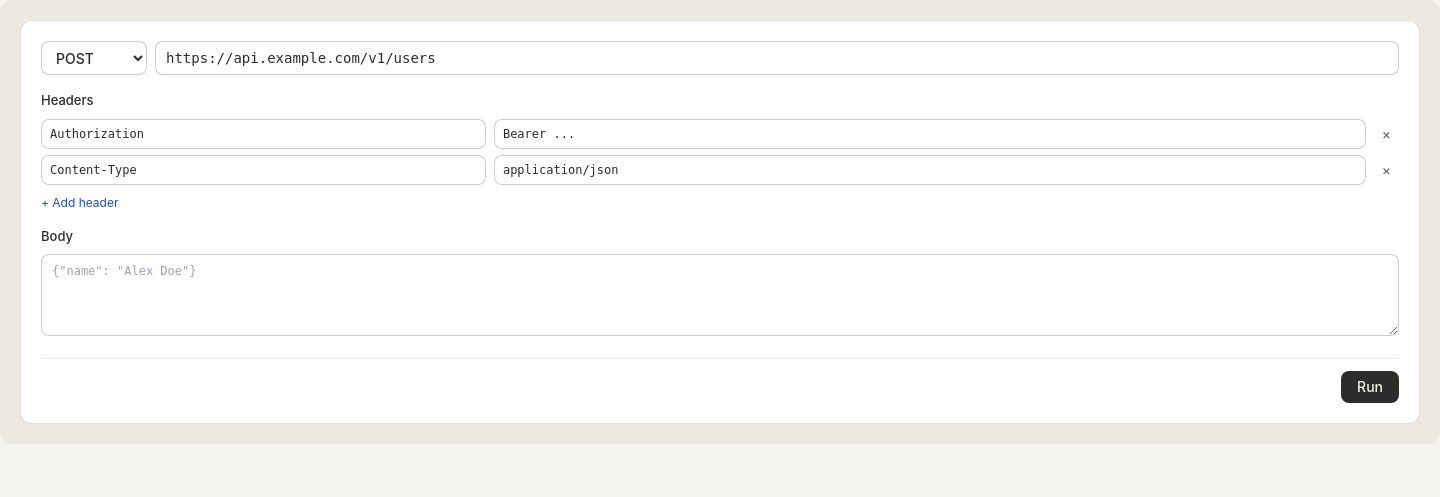
Test: RequestComposer › can add and remove header rows
Click the button "+ Add header" at (80, 202), box top-left (41, 194), bottom-right (118, 210)
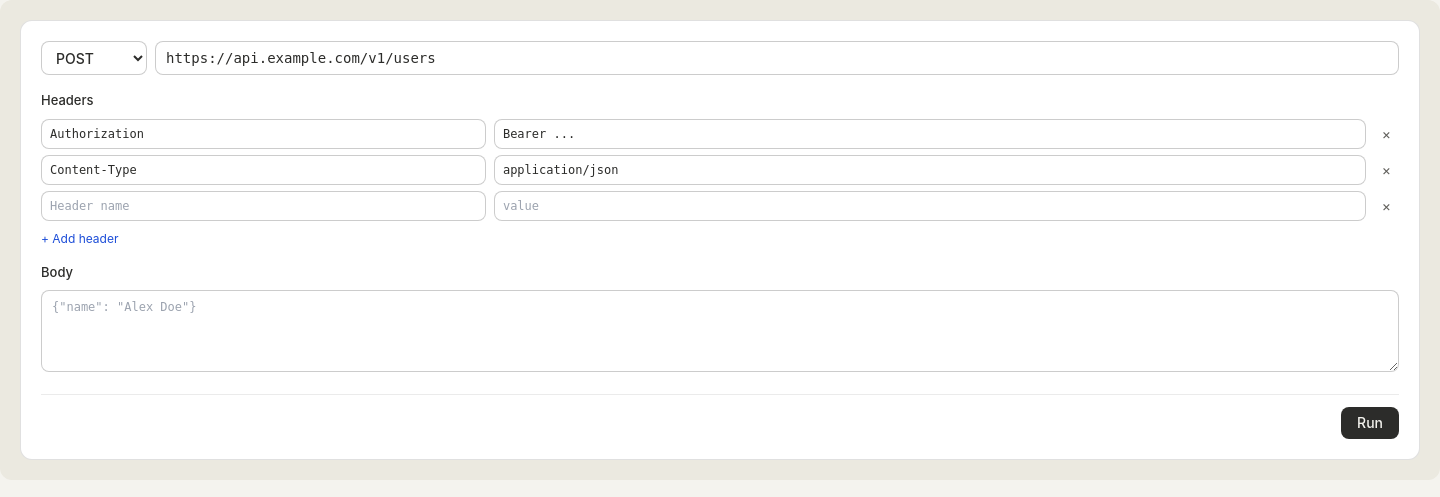
Check: the number of fields named "Header 1 name" is 3, box top-left (41, 118), bottom-right (486, 148); top-left (41, 154), bottom-right (486, 184); top-left (41, 190), bottom-right (486, 220)
Click the 3rd button "×" at (1386, 206), box top-left (1374, 190), bottom-right (1399, 220)
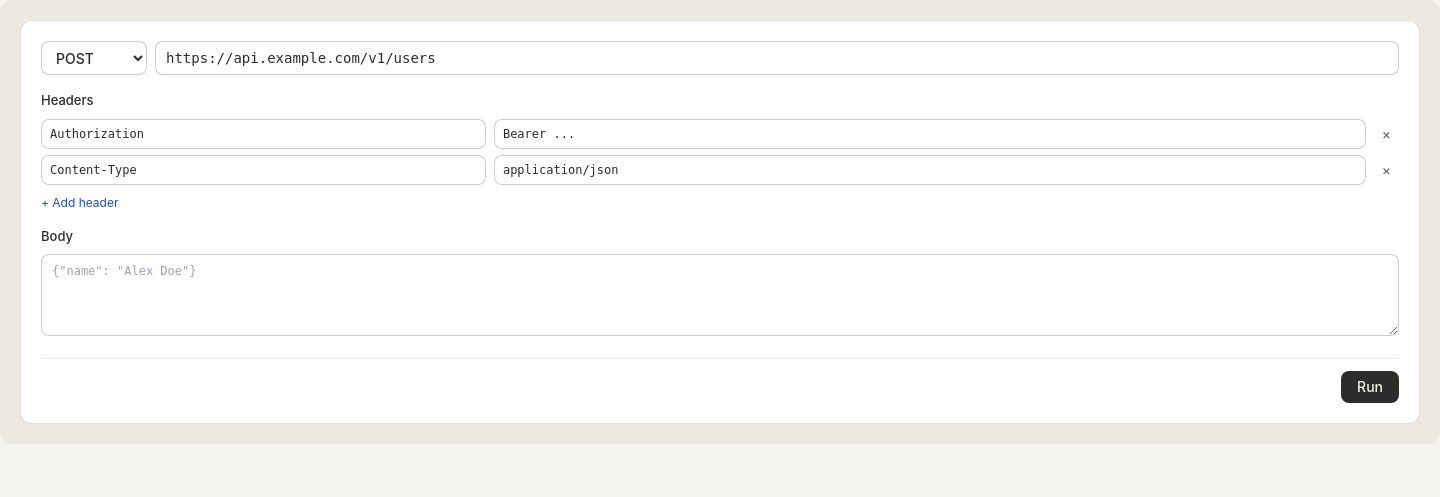
Check: the number of fields named "Header 1 name" is 2, box top-left (41, 118), bottom-right (486, 148); top-left (41, 154), bottom-right (486, 184)
